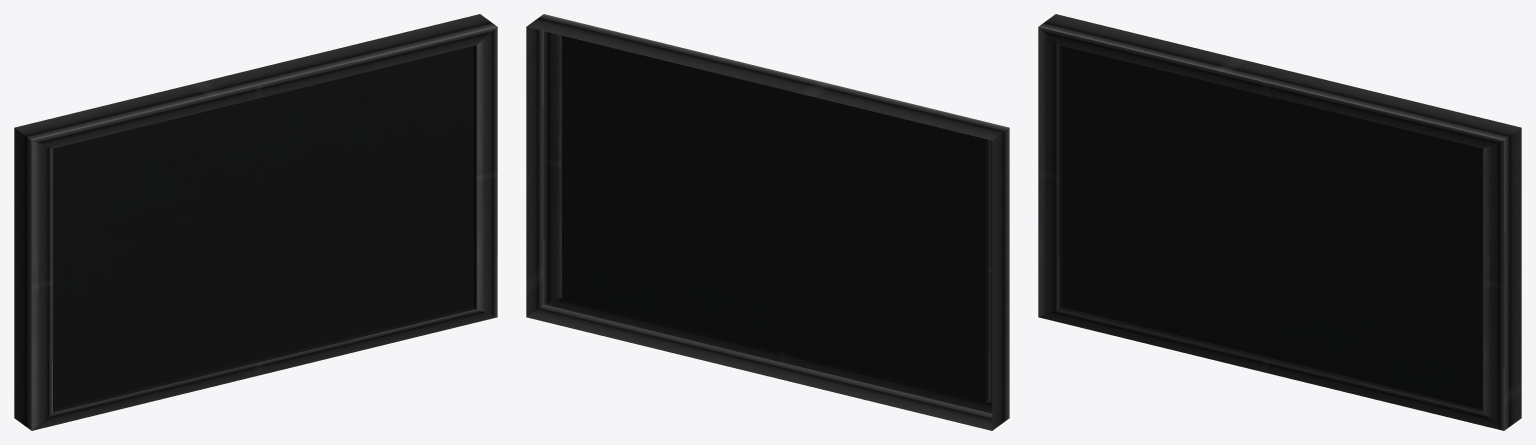
The model's file is telacomputador-desligado.fbx.
The picture shows the model from 3 angles, left to right: view 1: azimuth 30°, elevation 25°; view 2: azimuth 150°, elevation 25°; view 3: azimuth 330°, elevation 25°; orthographic projection.
Parts seen in each view (by area): view 1: Cylinder.001; view 2: Cylinder.001; view 3: Cylinder.001.
Boxes of the visible parts, x1,y1,x2,y2 form: Cylinder.001: (14, 14, 497, 430); Cylinder.001: (526, 14, 1009, 430); Cylinder.001: (1038, 14, 1521, 430).
Size of the model in its own units: 2.07 by 1.23 by 0.1353.
